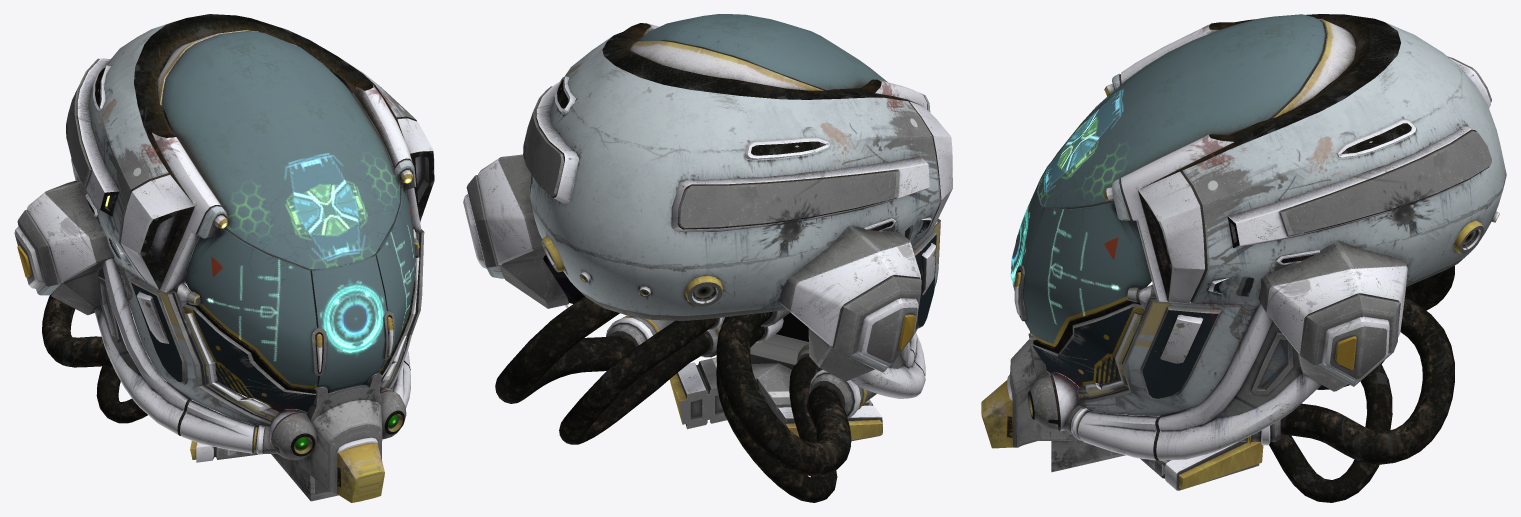
3 renders of one model, left to right at view 1: azimuth 30°, elevation 25°; view 2: azimuth 150°, elevation 25°; view 3: azimuth 270°, elevation 25°, orthographic. The views are drawn at different scales.
Visible parts, largest first — view 1: node_damagedHelmet_-6514; view 2: node_damagedHelmet_-6514; view 3: node_damagedHelmet_-6514.
Boxes of the visible parts, bbox=[...] form: node_damagedHelmet_-6514: bbox=[14, 14, 434, 502]; node_damagedHelmet_-6514: bbox=[463, 14, 952, 502]; node_damagedHelmet_-6514: bbox=[981, 14, 1506, 502].
Size of the model in its own units: 1.89 by 1.8 by 2.
1 material, 1 textured.
